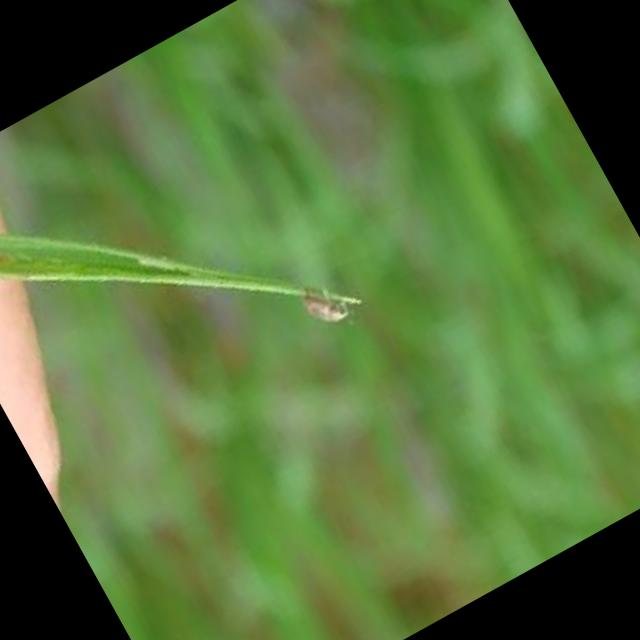rice-bug: (294, 273, 356, 336)
